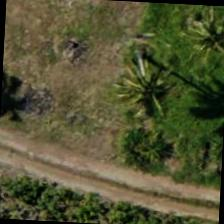Kelapa_Sawit: (98, 46, 192, 141)
